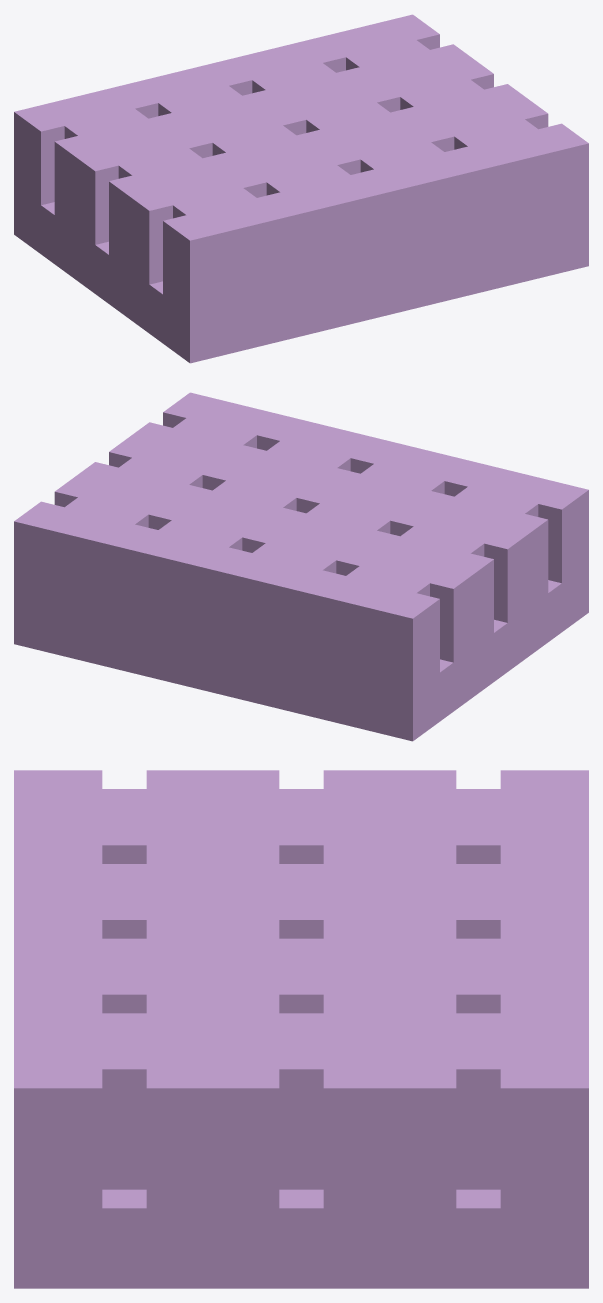
The model's file is alien-biosphere-honeycomb-mineral-d06df534__22748.glb.
3 renders of one model, top to bottom at view 1: azimuth 30°, elevation 25°; view 2: azimuth 150°, elevation 25°; view 3: azimuth 270°, elevation 25°, orthographic. The views are drawn at different scales.
Parts seen in each view (by area): view 1: honeycomb-mineral; view 2: honeycomb-mineral; view 3: honeycomb-mineral.
Boxes of the visible parts, x1,y1,x2,y2 form: honeycomb-mineral: (14, 14, 588, 363); honeycomb-mineral: (14, 392, 588, 741); honeycomb-mineral: (14, 770, 588, 1288).
Size of the model in its own units: 3.4 by 1 by 2.6.
